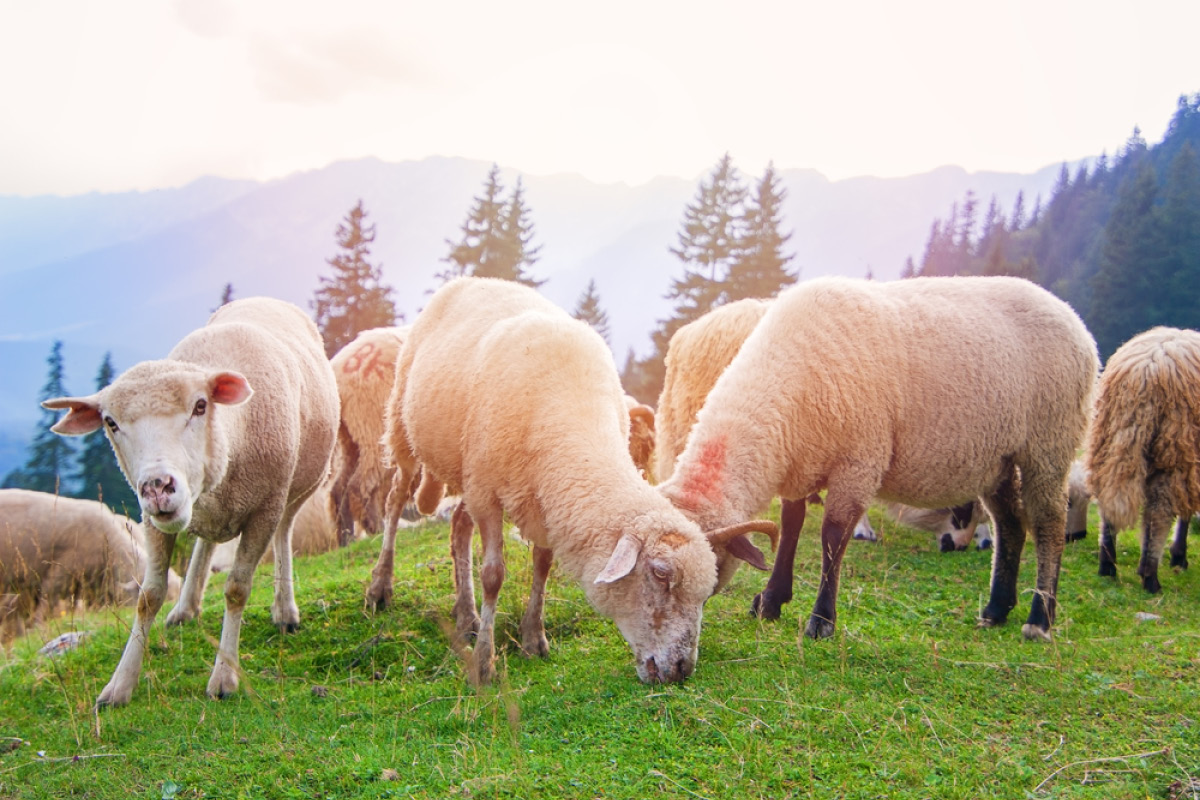sheep: (724, 279, 1084, 664), (386, 289, 719, 690), (99, 302, 331, 679), (1078, 290, 1200, 585), (309, 307, 429, 555), (1, 487, 164, 645)
